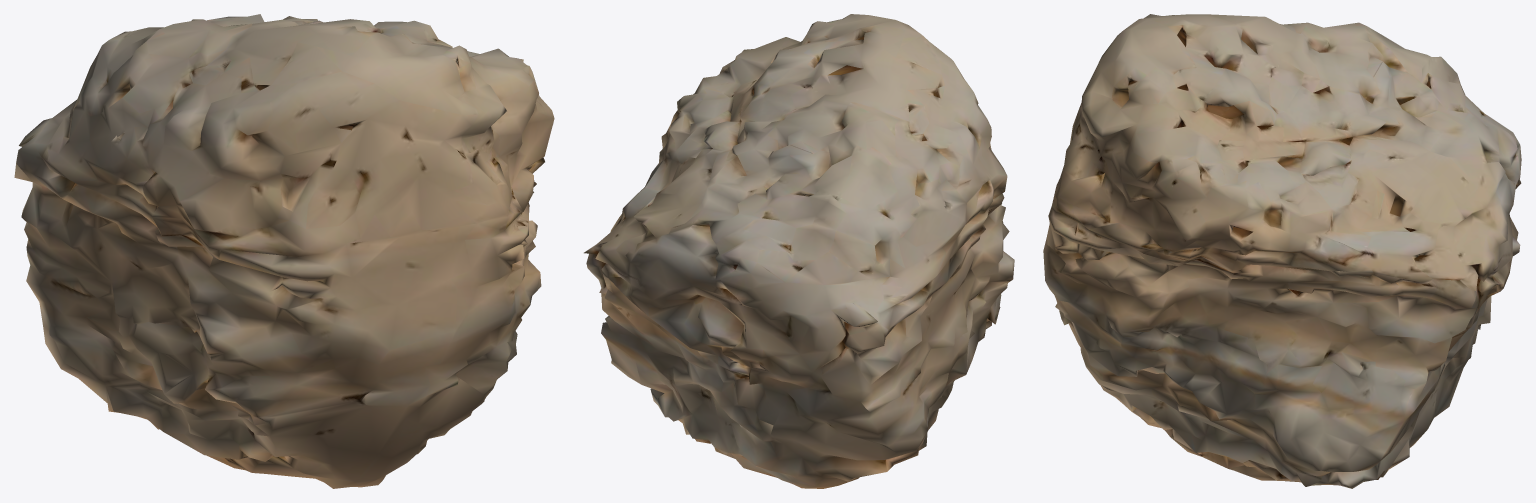
File: rock.glb
3 renders of one model, left to right at view 1: azimuth 30°, elevation 25°; view 2: azimuth 150°, elevation 25°; view 3: azimuth 270°, elevation 25°, orthographic. The views are drawn at different scales.
Visible parts, largest first — view 1: tripo_node_dfdc21a9-5207-42eb-92a3-02e070b60414; view 2: tripo_node_dfdc21a9-5207-42eb-92a3-02e070b60414; view 3: tripo_node_dfdc21a9-5207-42eb-92a3-02e070b60414.
Part boxes in pixels (x1,y1,x2,y2): tripo_node_dfdc21a9-5207-42eb-92a3-02e070b60414: [14, 14, 554, 488]; tripo_node_dfdc21a9-5207-42eb-92a3-02e070b60414: [584, 14, 1014, 488]; tripo_node_dfdc21a9-5207-42eb-92a3-02e070b60414: [1043, 14, 1521, 488].
Bounding box in the file's own units: 0.8612 × 1 × 0.9913.
Materials: 1 (1 with a texture image).
